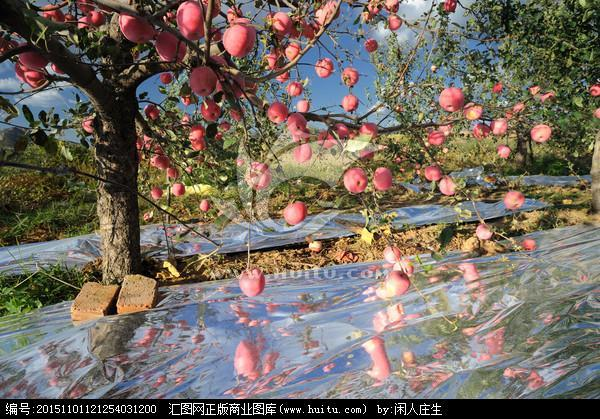apple: (176, 1, 208, 37), (12, 55, 48, 85), (118, 12, 154, 42), (222, 23, 254, 55), (156, 27, 185, 62), (237, 268, 266, 297), (188, 66, 217, 95), (383, 270, 410, 295), (344, 166, 370, 191), (439, 86, 465, 111), (284, 201, 310, 226), (247, 163, 271, 189), (370, 166, 392, 189), (287, 112, 306, 134), (315, 57, 333, 79), (340, 67, 359, 86), (268, 101, 285, 122), (188, 124, 206, 143), (294, 143, 312, 162), (531, 124, 551, 141), (438, 178, 458, 195), (504, 188, 522, 206), (464, 102, 482, 120), (341, 94, 358, 111), (493, 118, 508, 137), (424, 165, 441, 180), (496, 146, 510, 160), (296, 99, 310, 112)
